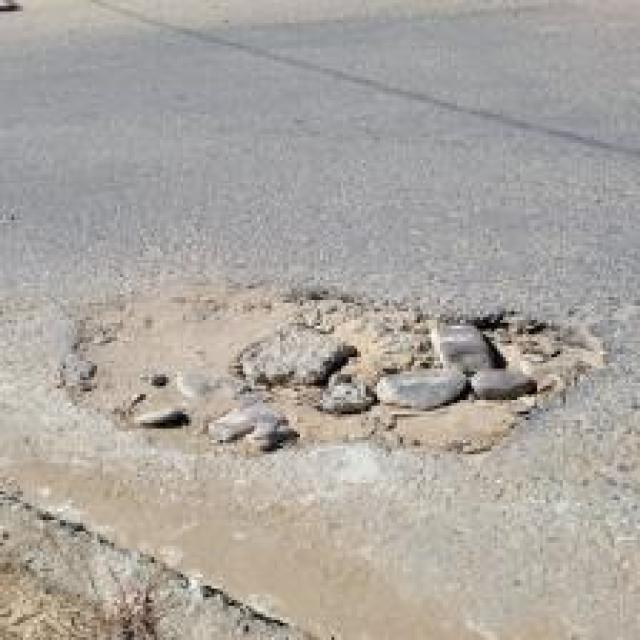BACHE: (58, 290, 602, 454)
